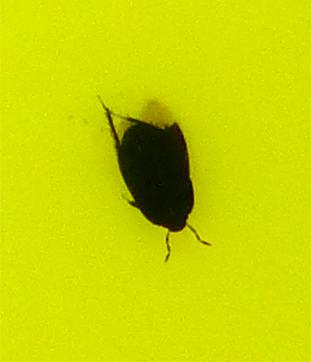Coleoptera: (100, 100, 211, 262)
